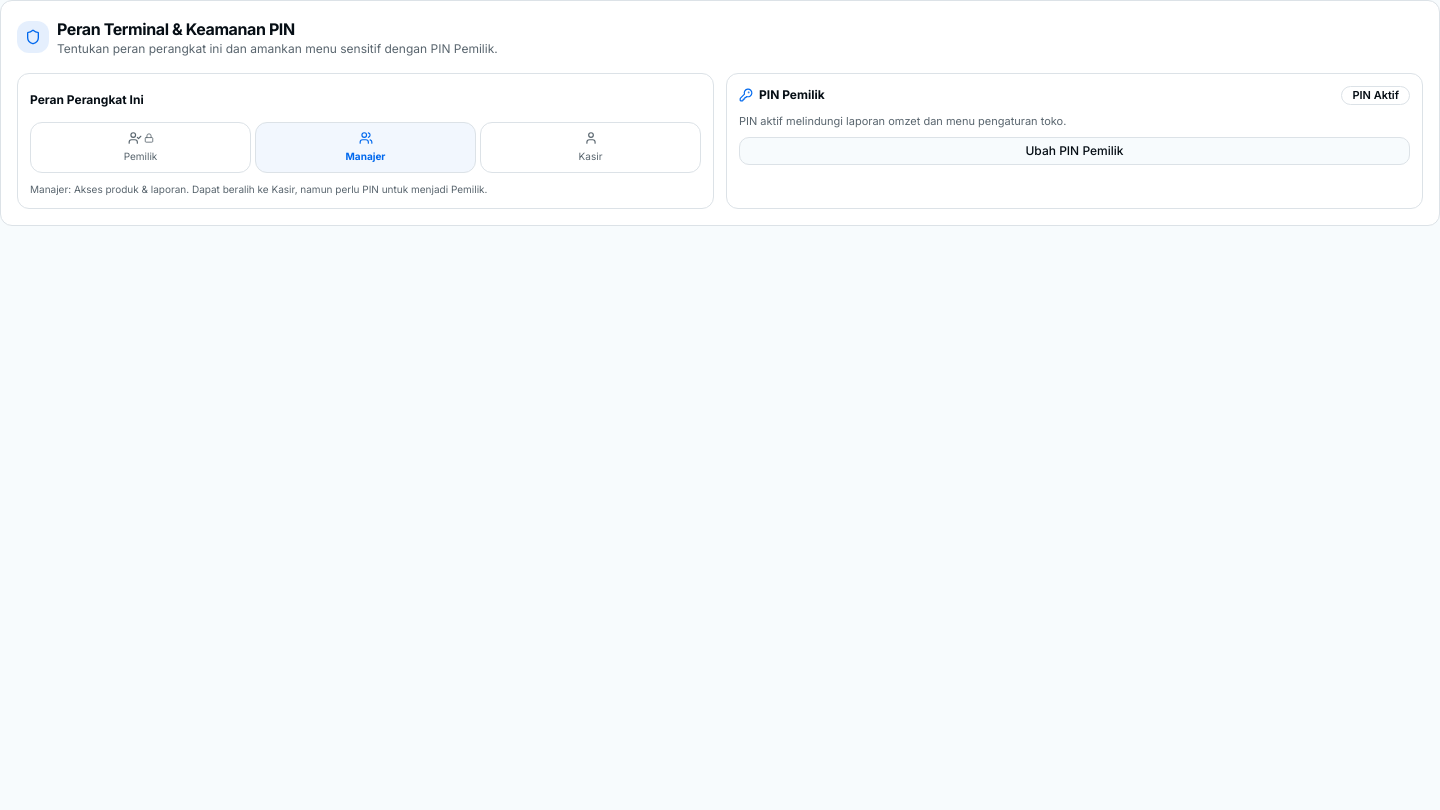
Test case: TerminalSecurityCard › allows manager to switch to cashier without PIN, but requires PIN to become owner
Click the button "Kasir" at (590, 148), box top-left (480, 122), bottom-right (701, 173)
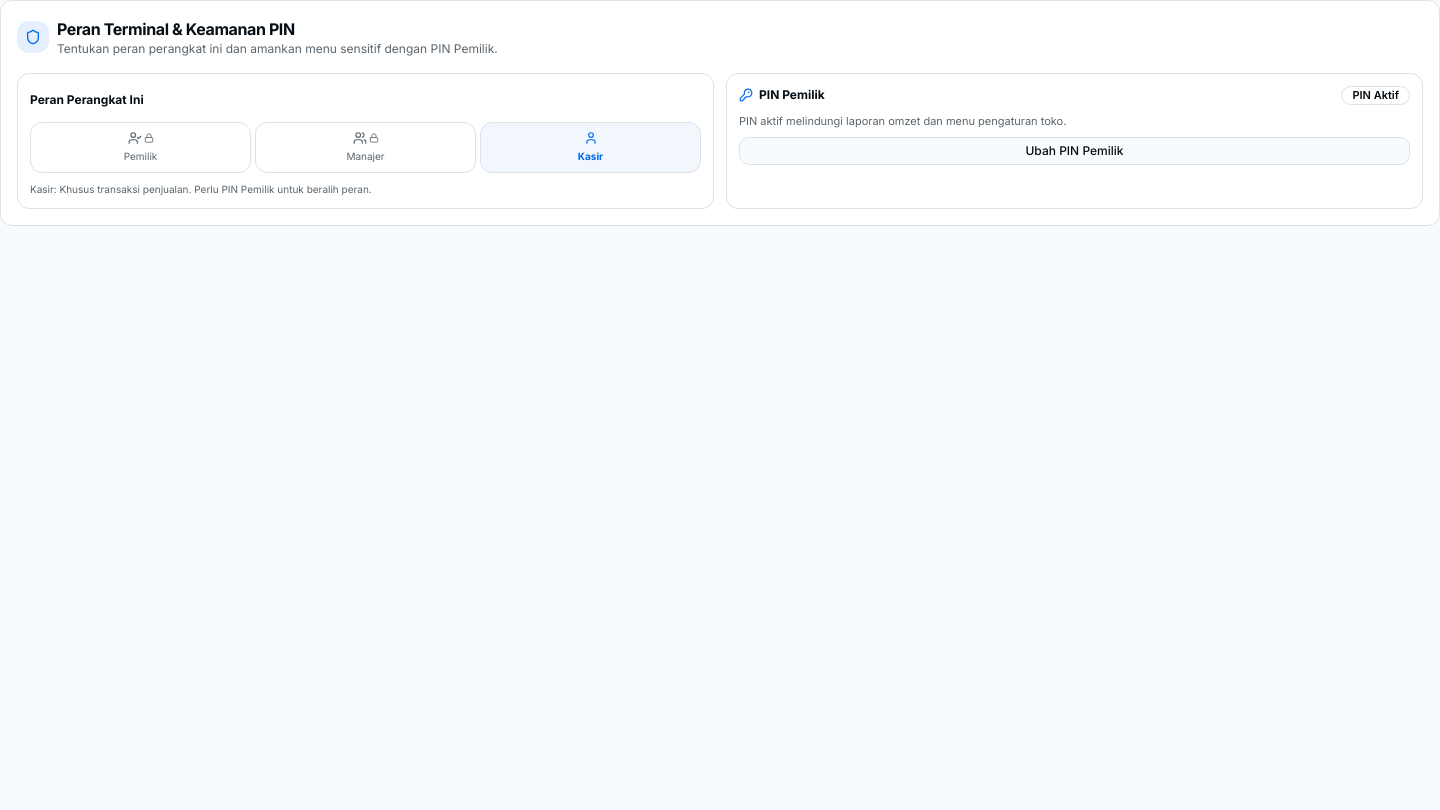
Click the button titled "Perlu PIN Pemilik untuk beralih ke peran Pemilik" at (140, 148), box top-left (30, 122), bottom-right (251, 173)
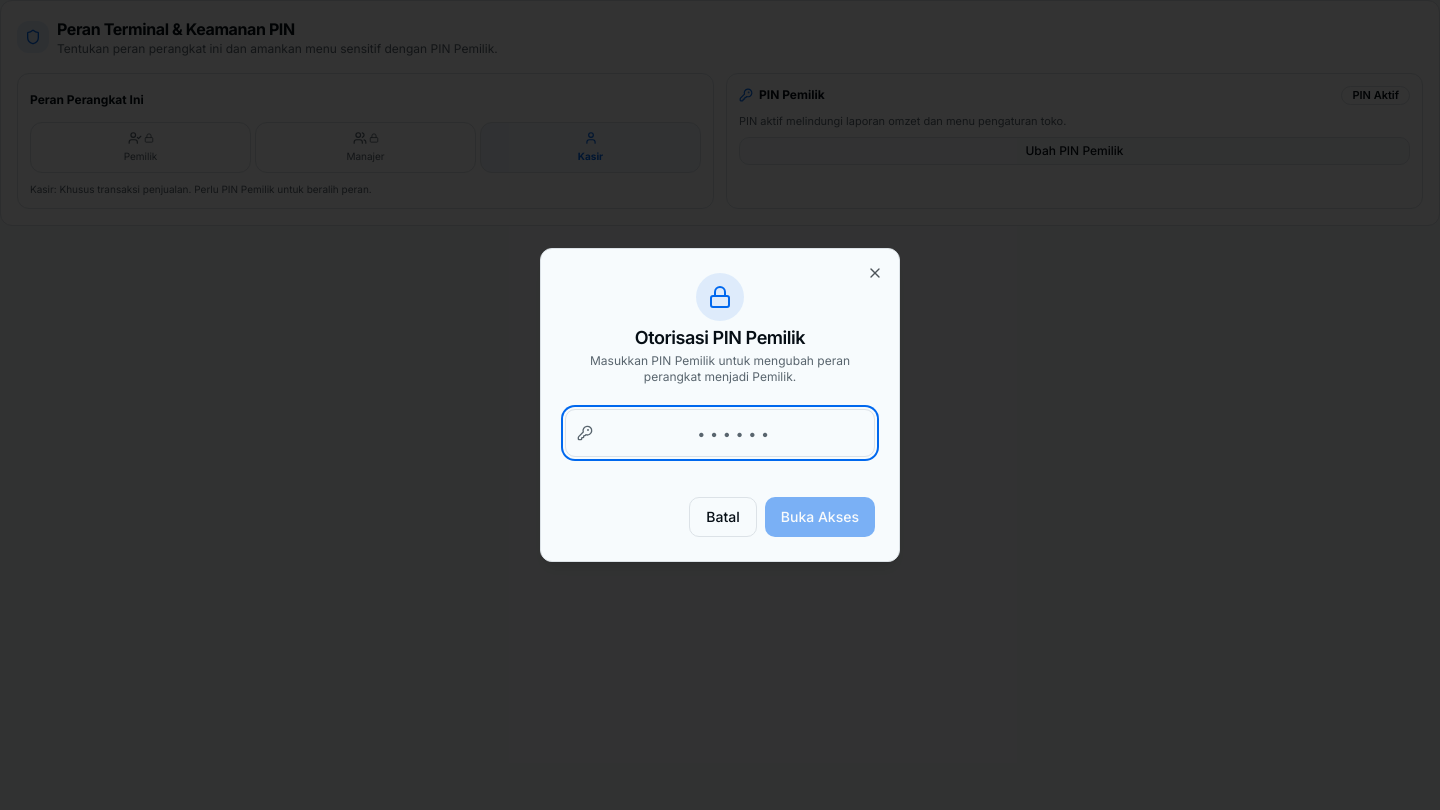
Result: the heading "Otorisasi PIN Pemilik" is shown at top-left (635, 327), bottom-right (805, 348)
